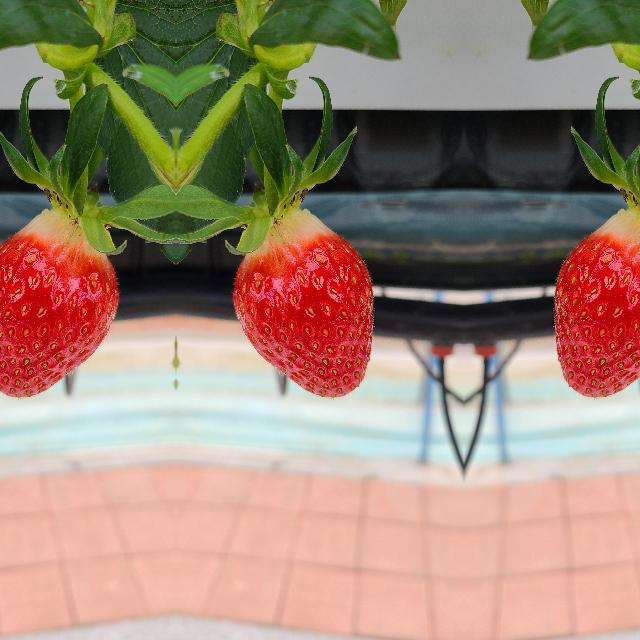Health_100: (230, 208, 374, 400), (0, 208, 120, 399), (551, 208, 640, 399)
